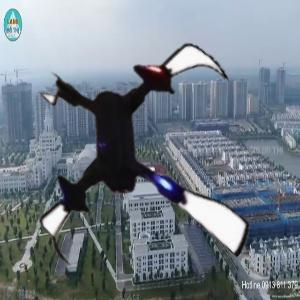drone: (13, 29, 279, 295)
